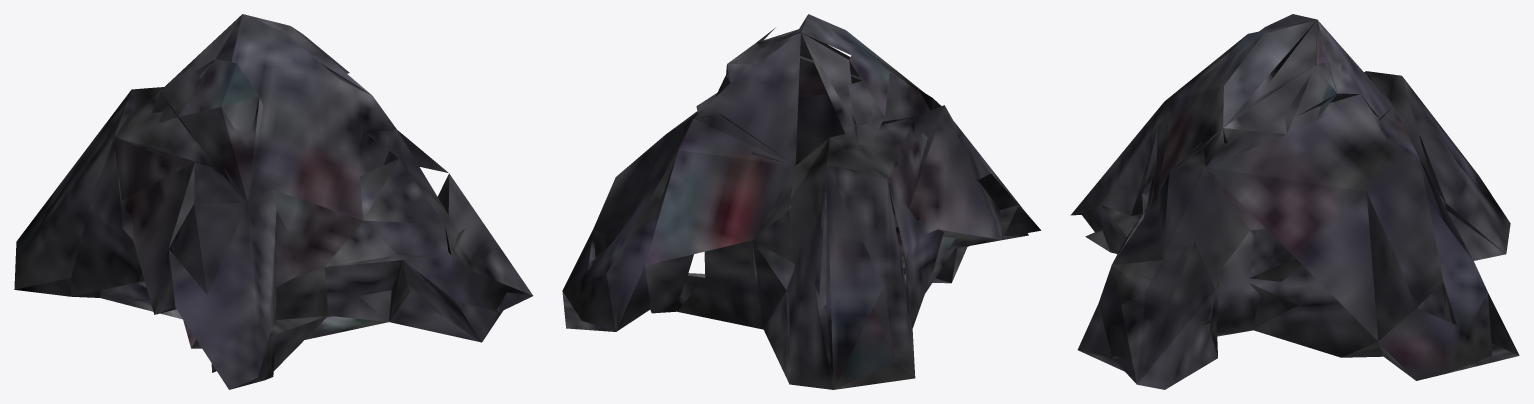
Rendered from enemy_hq_1302990365_lod1.glb.
3 renders of one model, left to right at view 1: azimuth 30°, elevation 25°; view 2: azimuth 150°, elevation 25°; view 3: azimuth 270°, elevation 25°, orthographic. The views are drawn at different scales.
Bounding box in the file's own units: 17.27 × 12.09 × 17.89.
Materials: 1 (1 with a texture image).
